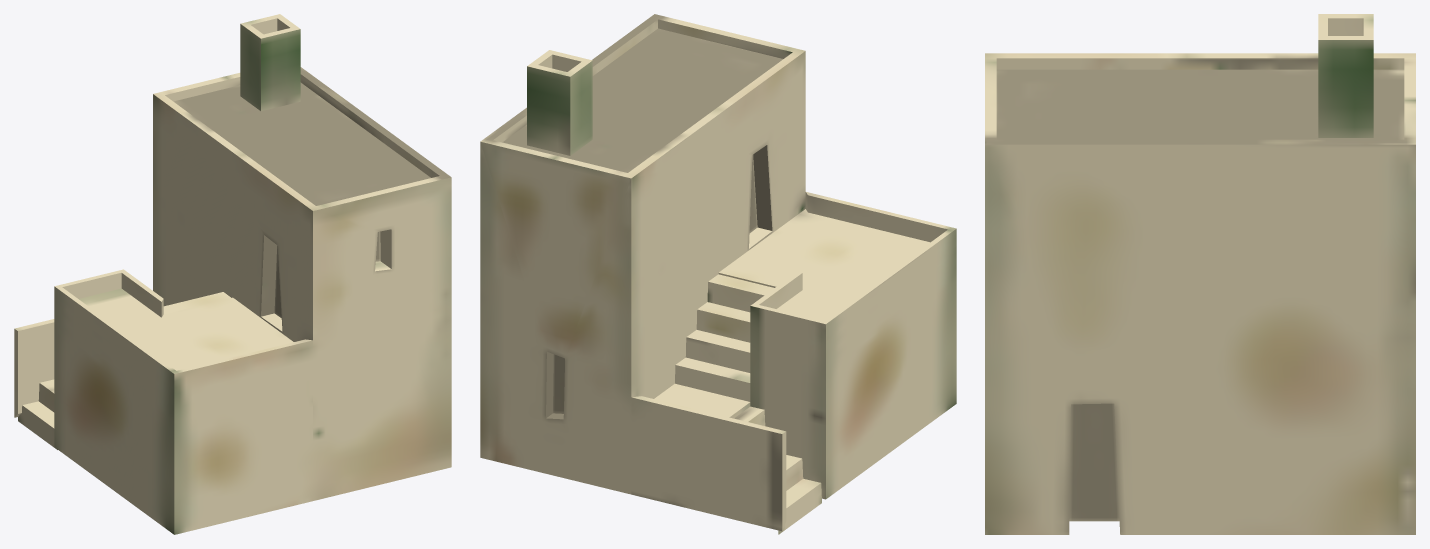
The model's file is House5.fbx.
3 renders of one model, left to right at view 1: azimuth 30°, elevation 25°; view 2: azimuth 150°, elevation 25°; view 3: azimuth 270°, elevation 25°, orthographic. The views are drawn at different scales.
Parts seen in each view (by area): view 1: House 5; view 2: House 5; view 3: House 5.
Part boxes in pixels (x1=…): House 5: x1=14, y1=14, x2=451, y2=534; House 5: x1=480, y1=14, x2=956, y2=534; House 5: x1=985, y1=14, x2=1415, y2=534.
Size of the model in its own units: 400 by 494 by 400.
